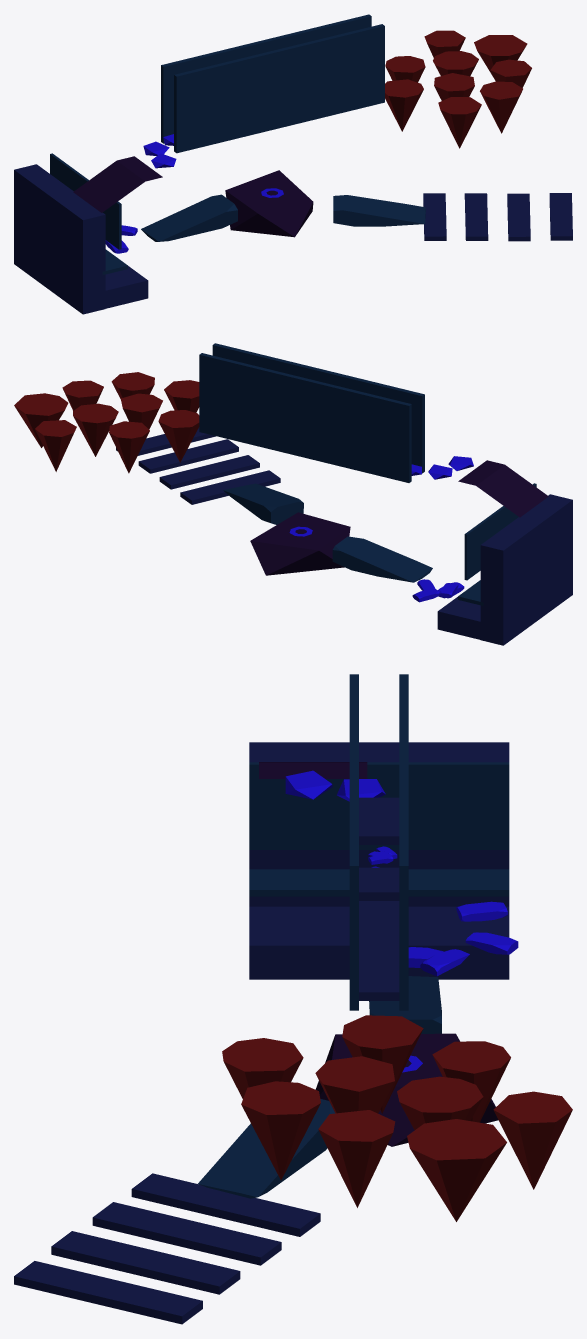
The model's file is stage1.obj.
3 renders of one model, top to bottom at view 1: azimuth 30°, elevation 25°; view 2: azimuth 150°, elevation 25°; view 3: azimuth 270°, elevation 25°, orthographic. The views are drawn at different scales.
Parts seen in each view (by area): view 1: Cube.009, Cube.008, Cylinder, Cube.011, Cube.019_Cube.020, Cube.001, Plane.000_Plane.004, Cube, Cube.007, Cone.006, Cone.003, Cone.001 (+11 smaller); view 2: Cube.011, Cube.008, Cylinder, Cube.009, Cube.019_Cube.020, Plane.000_Plane.004, Cube.001, Cube, Cube.022_Cube.023, Cube.023_Cube.024, Cube.007, Cone (+11 smaller); view 3: Cube, Cube.007, Cube.008, Cone, Cube.006, Cube.022_Cube.023, Cube.023_Cube.024, Cube.020_Cube.021, Cube.021_Cube.022, Cube.001, Cone.006, Cone.004 (+17 smaller).
Part boxes in pixels (box(x1,y1,x2,y2)): Cube.009: box(174, 24, 384, 153); Cube.008: box(14, 164, 105, 314); Cylinder: box(225, 170, 313, 237); Cube.011: box(161, 14, 371, 143); Cube.019_Cube.020: box(141, 194, 237, 241); Cube.001: box(333, 195, 425, 226); Plane.000_Plane.004: box(73, 160, 144, 212); Cube: box(50, 153, 121, 249); Cube.007: box(105, 266, 148, 308); Cone.006: box(480, 81, 522, 133); Cone.003: box(438, 97, 481, 148); Cone.001: box(385, 79, 423, 131); Cube.011: box(199, 353, 411, 482); Cube.008: box(480, 494, 572, 645); Cylinder: box(250, 512, 350, 575); Cube.009: box(212, 343, 424, 473); Cube.019_Cube.020: box(332, 536, 432, 582); Plane.000_Plane.004: box(476, 465, 548, 517); Cube.001: box(223, 483, 303, 524); Cube: box(464, 483, 536, 580); Cube.022_Cube.023: box(159, 455, 259, 489); Cube.023_Cube.024: box(138, 439, 238, 473); Cube.007: box(437, 597, 480, 639); Cone: box(14, 393, 68, 447); Cube: box(249, 762, 509, 849); Cube.007: box(249, 906, 509, 979); Cube.008: box(249, 742, 509, 906); Cone: box(407, 1119, 506, 1221); Cube.006: box(249, 869, 509, 896); Cube.022_Cube.023: box(92, 1202, 281, 1265); Cube.023_Cube.024: box(51, 1231, 240, 1294); Cube.020_Cube.021: box(14, 1261, 202, 1324); Cube.021_Cube.022: box(131, 1173, 320, 1236); Cube.001: box(198, 1099, 335, 1198); Cone.006: box(241, 1081, 320, 1180); Cone.004: box(493, 1091, 572, 1189).
Size of the model in its own units: 47.48 by 17.36 by 24.67.
